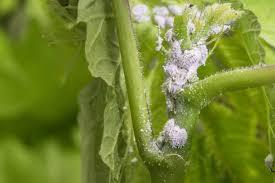pseudococcidae: (127, 2, 242, 165)
